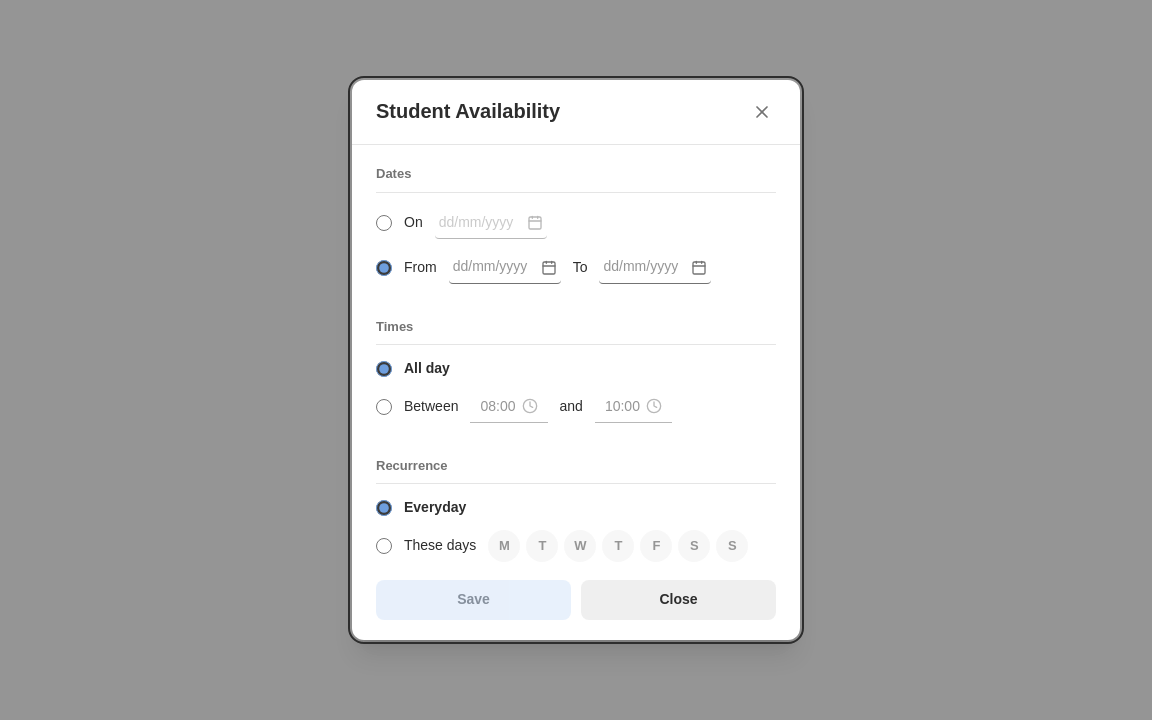
Scenario: AvailabilityFormModal › selects the "On" radio when its date field receives focus, without clicking the radio first
Expected: the radio button labelled "On" is not checked, [376, 215, 392, 231]
Focus the field named "Date" at (491, 223), box [435, 207, 547, 239]
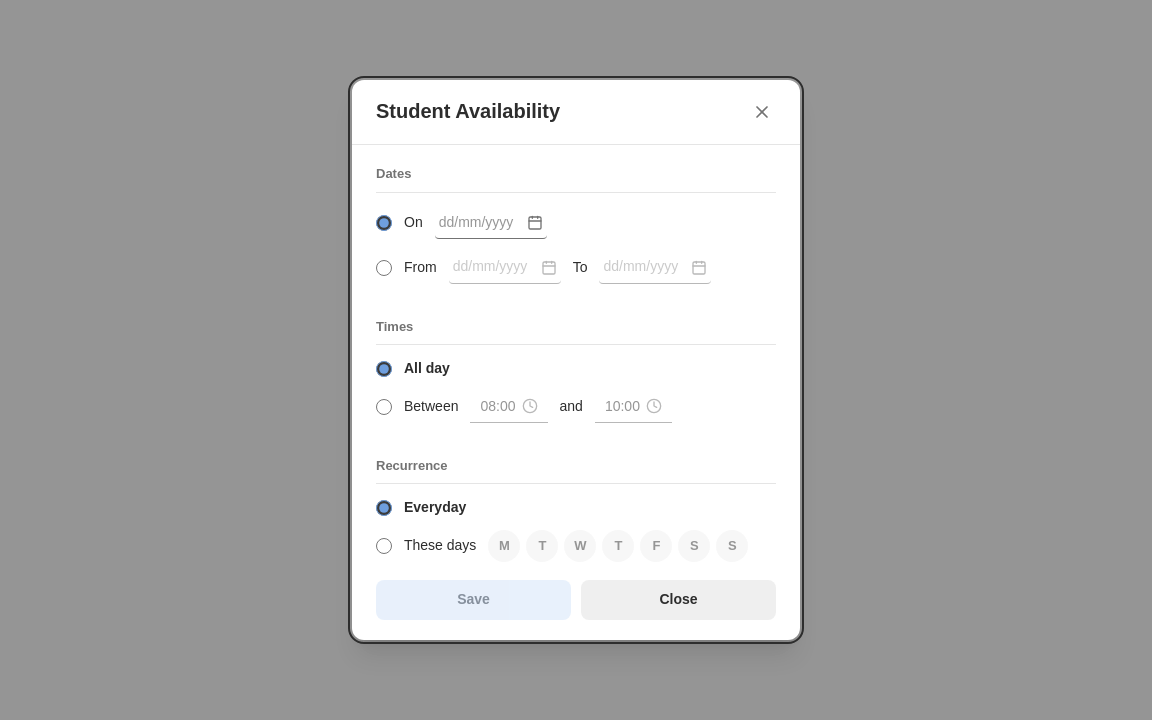
Expected: the radio button labelled "On" is checked, [376, 215, 392, 231]
